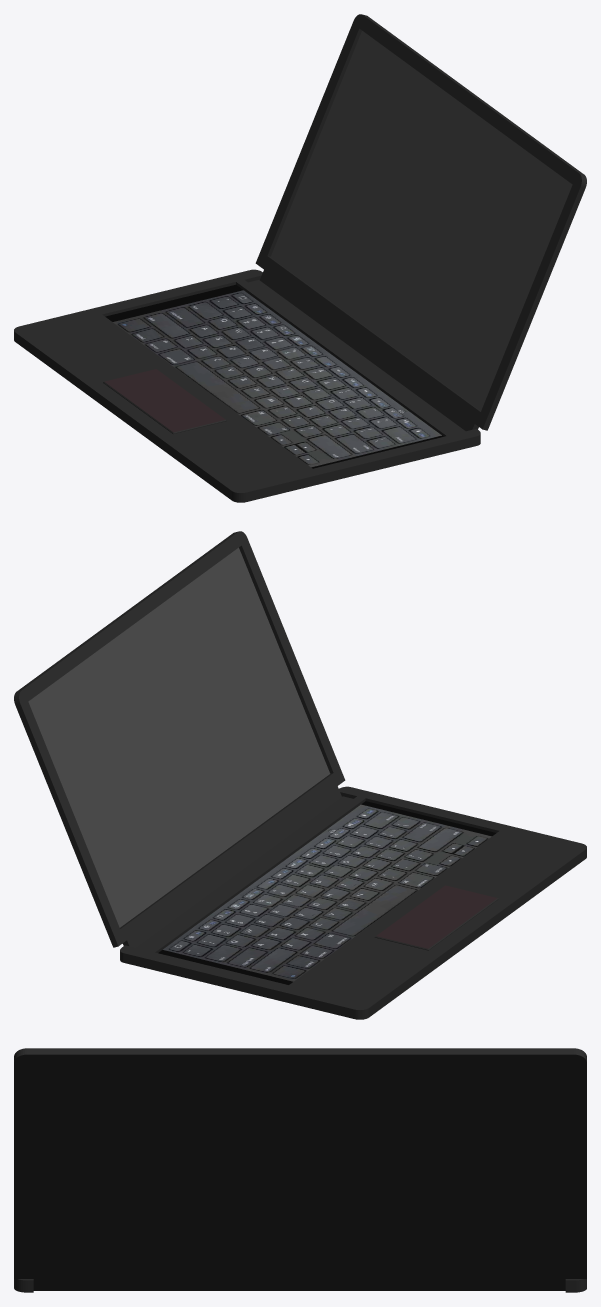
File: laptop.glb
3 views of the same model, one above another, from view 1: azimuth 30°, elevation 25°; view 2: azimuth 150°, elevation 25°; view 3: azimuth 270°, elevation 25° (orthographic). The views are drawn at different scales.
Parts seen in each view (by area): view 1: Cube_0; view 2: Cube_0; view 3: Cube_0.
Part boxes in pixels (left/top/right/bottom): Cube_0: left=14, top=14, right=586, bottom=502; Cube_0: left=14, top=531, right=586, bottom=1019; Cube_0: left=14, top=1048, right=586, bottom=1292.
Bounding box in the file's own units: 0.197 × 0.1295 × 0.2198.
6 materials, 1 textured.
